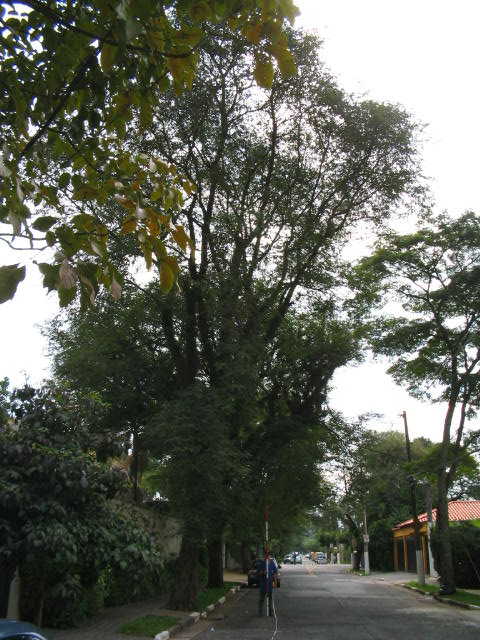crown: (87, 1, 429, 515)
stem: (163, 518, 208, 611)
stick: (259, 504, 273, 615)
tree: (86, 1, 429, 613)
